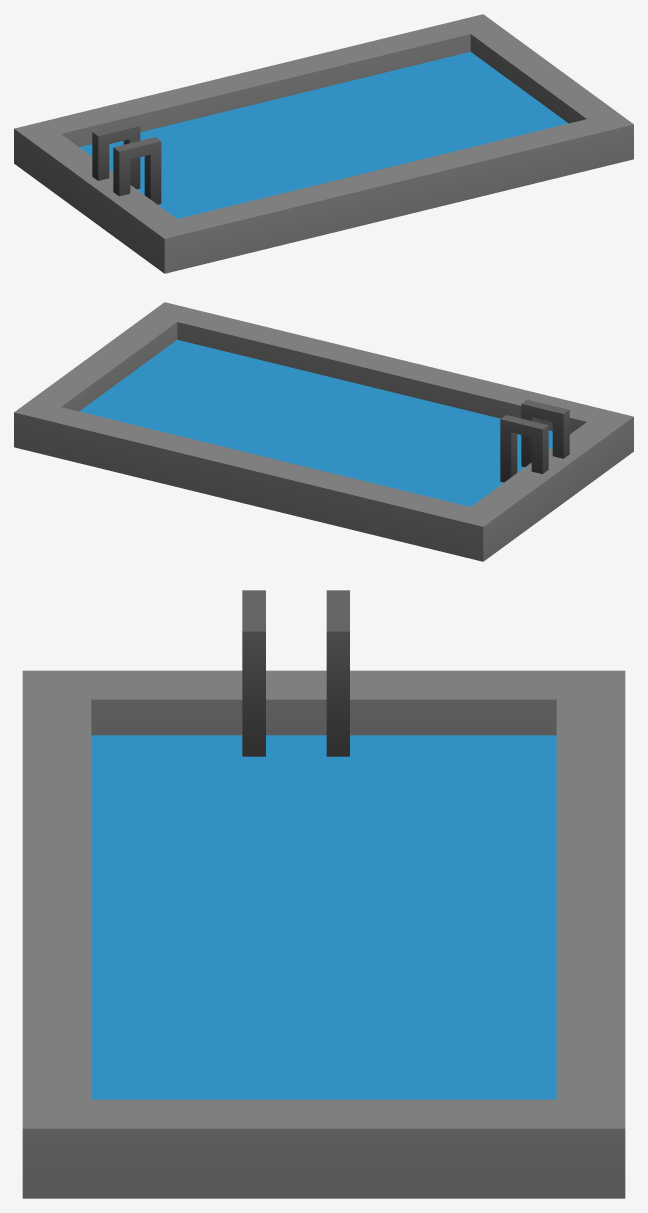
File: swimming pool 3.fbx
3 renders of one model, top to bottom at view 1: azimuth 30°, elevation 25°; view 2: azimuth 150°, elevation 25°; view 3: azimuth 270°, elevation 25°, orthographic. The views are drawn at different scales.
Visible parts, largest first — view 1: swimming_pool_3; view 2: swimming_pool_3; view 3: swimming_pool_3.
Boxes of the visible parts, x1=… form: swimming_pool_3: x1=14, y1=14, x2=633, y2=273; swimming_pool_3: x1=14, y1=302, x2=633, y2=561; swimming_pool_3: x1=22, y1=590, x2=625, y2=1198.
Bounding box in the file's own units: 687 × 111 × 382.
Materials: 1 (1 with a texture image).
